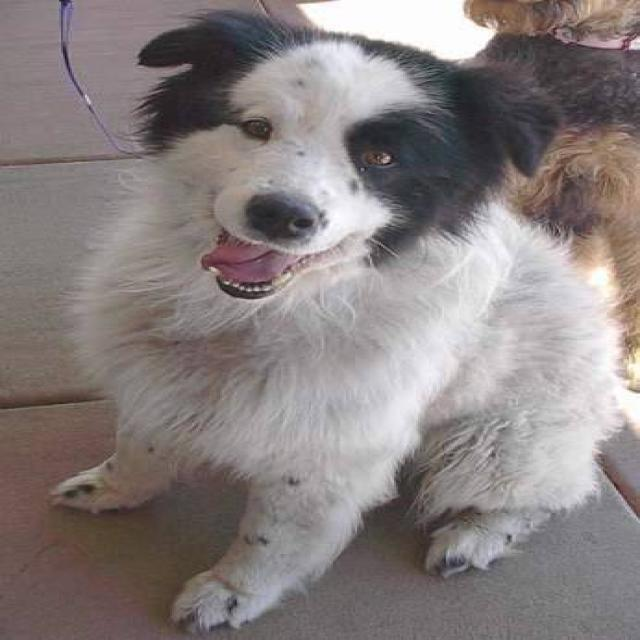dog: (46, 5, 629, 635), (455, 0, 638, 392)
